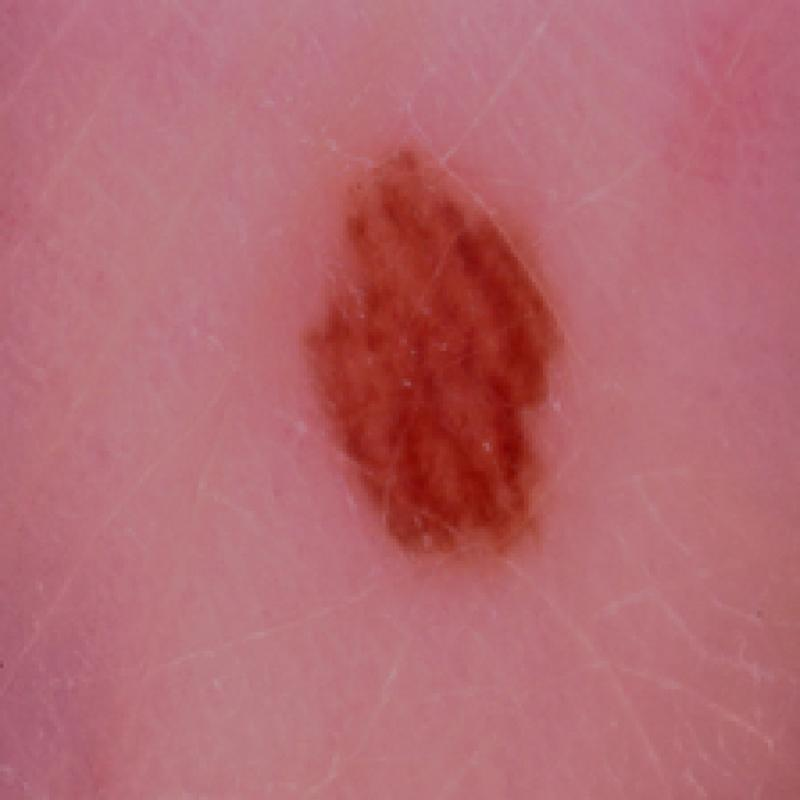benign: (272, 132, 595, 580)
